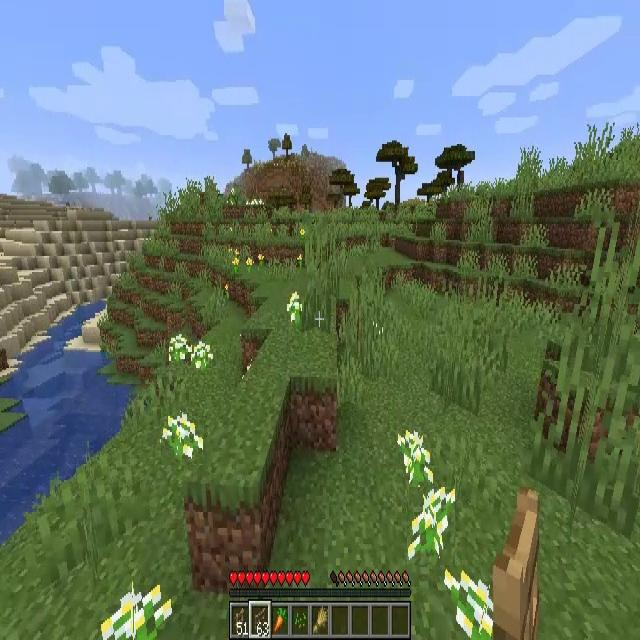flower: (102, 584, 172, 640), (408, 487, 456, 565), (445, 572, 494, 640), (394, 431, 434, 487), (161, 412, 203, 465), (190, 342, 213, 374), (169, 334, 191, 366), (286, 292, 302, 326), (258, 253, 266, 271), (246, 256, 253, 276), (232, 258, 239, 274), (297, 254, 303, 270), (298, 229, 306, 239)
